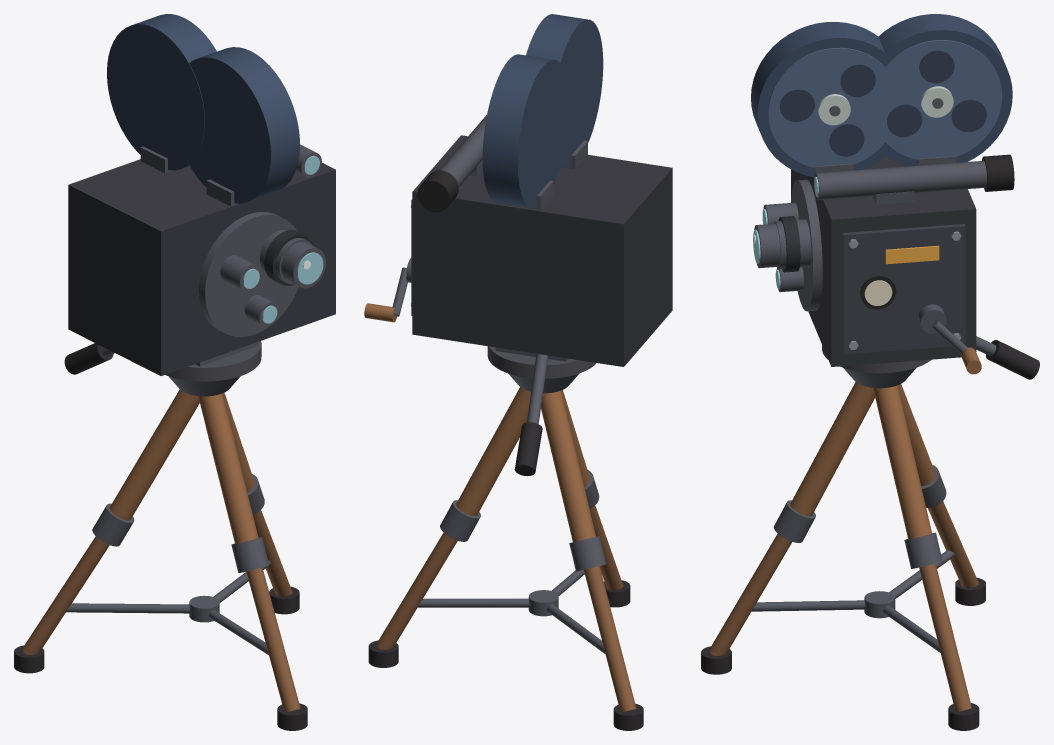
File: camera.glb
The picture shows the model from 3 angles, left to right: view 1: azimuth 30°, elevation 25°; view 2: azimuth 150°, elevation 25°; view 3: azimuth 270°, elevation 25°; orthographic projection. The views are drawn at different scales.
Visible parts, largest first — view 1: camera; view 2: camera; view 3: camera.
Part boxes in pixels (x1,y1,x2,y2): camera: [14, 14, 335, 730]; camera: [364, 14, 672, 730]; camera: [701, 14, 1039, 730].
Bounding box in the file's own units: 0.8446 × 1.82 × 0.876.
